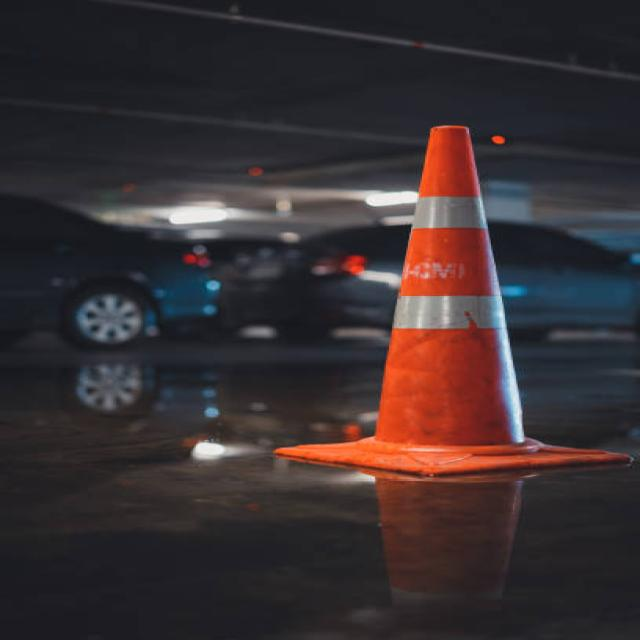Traffic Cone: (251, 103, 635, 486)
